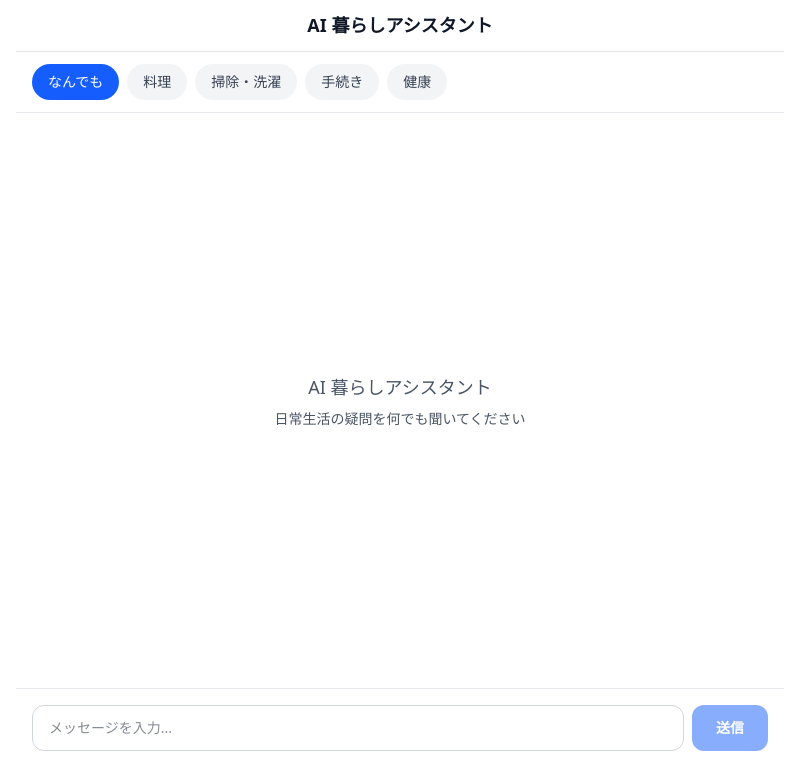
it: チャット画面のストリーミング処理 › エラー応答ではサーバの日本語メッセージをそのまま表示すること
This screenshot has width=801, height=767.
Type "テスト質問" into the field labelled "メッセージを入力" at (358, 728), box top-left (32, 705), bottom-right (684, 751)
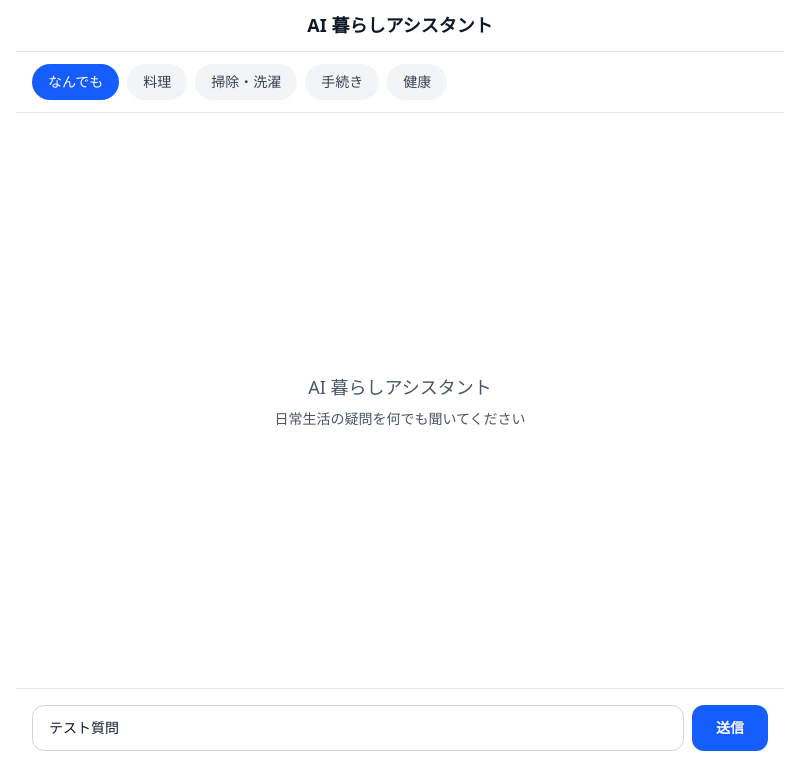
Click the button "送信" at (730, 728), box top-left (692, 705), bottom-right (768, 751)
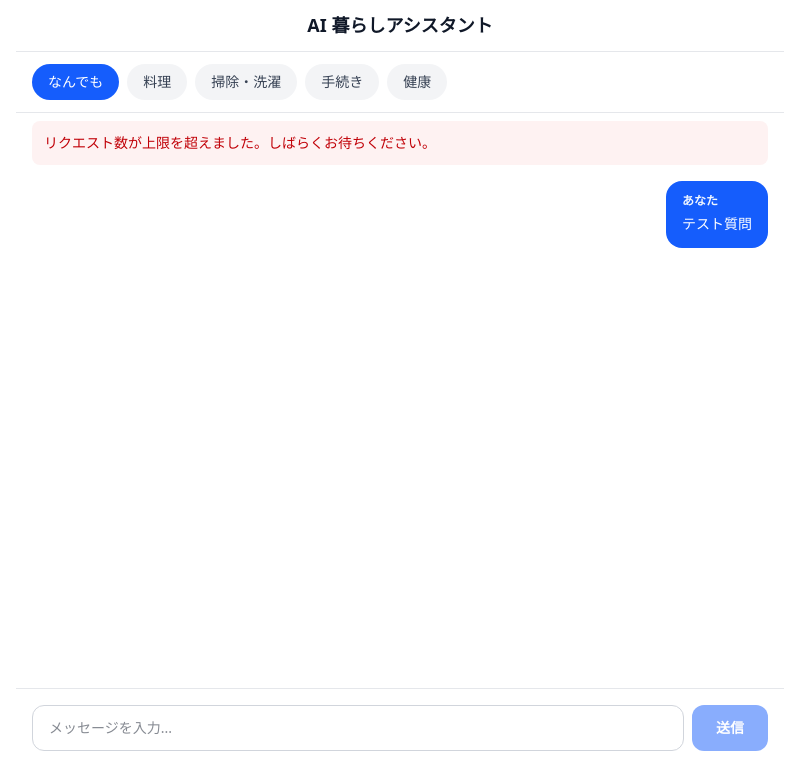
Expected: the message shows "リクエスト数が上限を超えました。", top-left (44, 133), bottom-right (436, 152)
